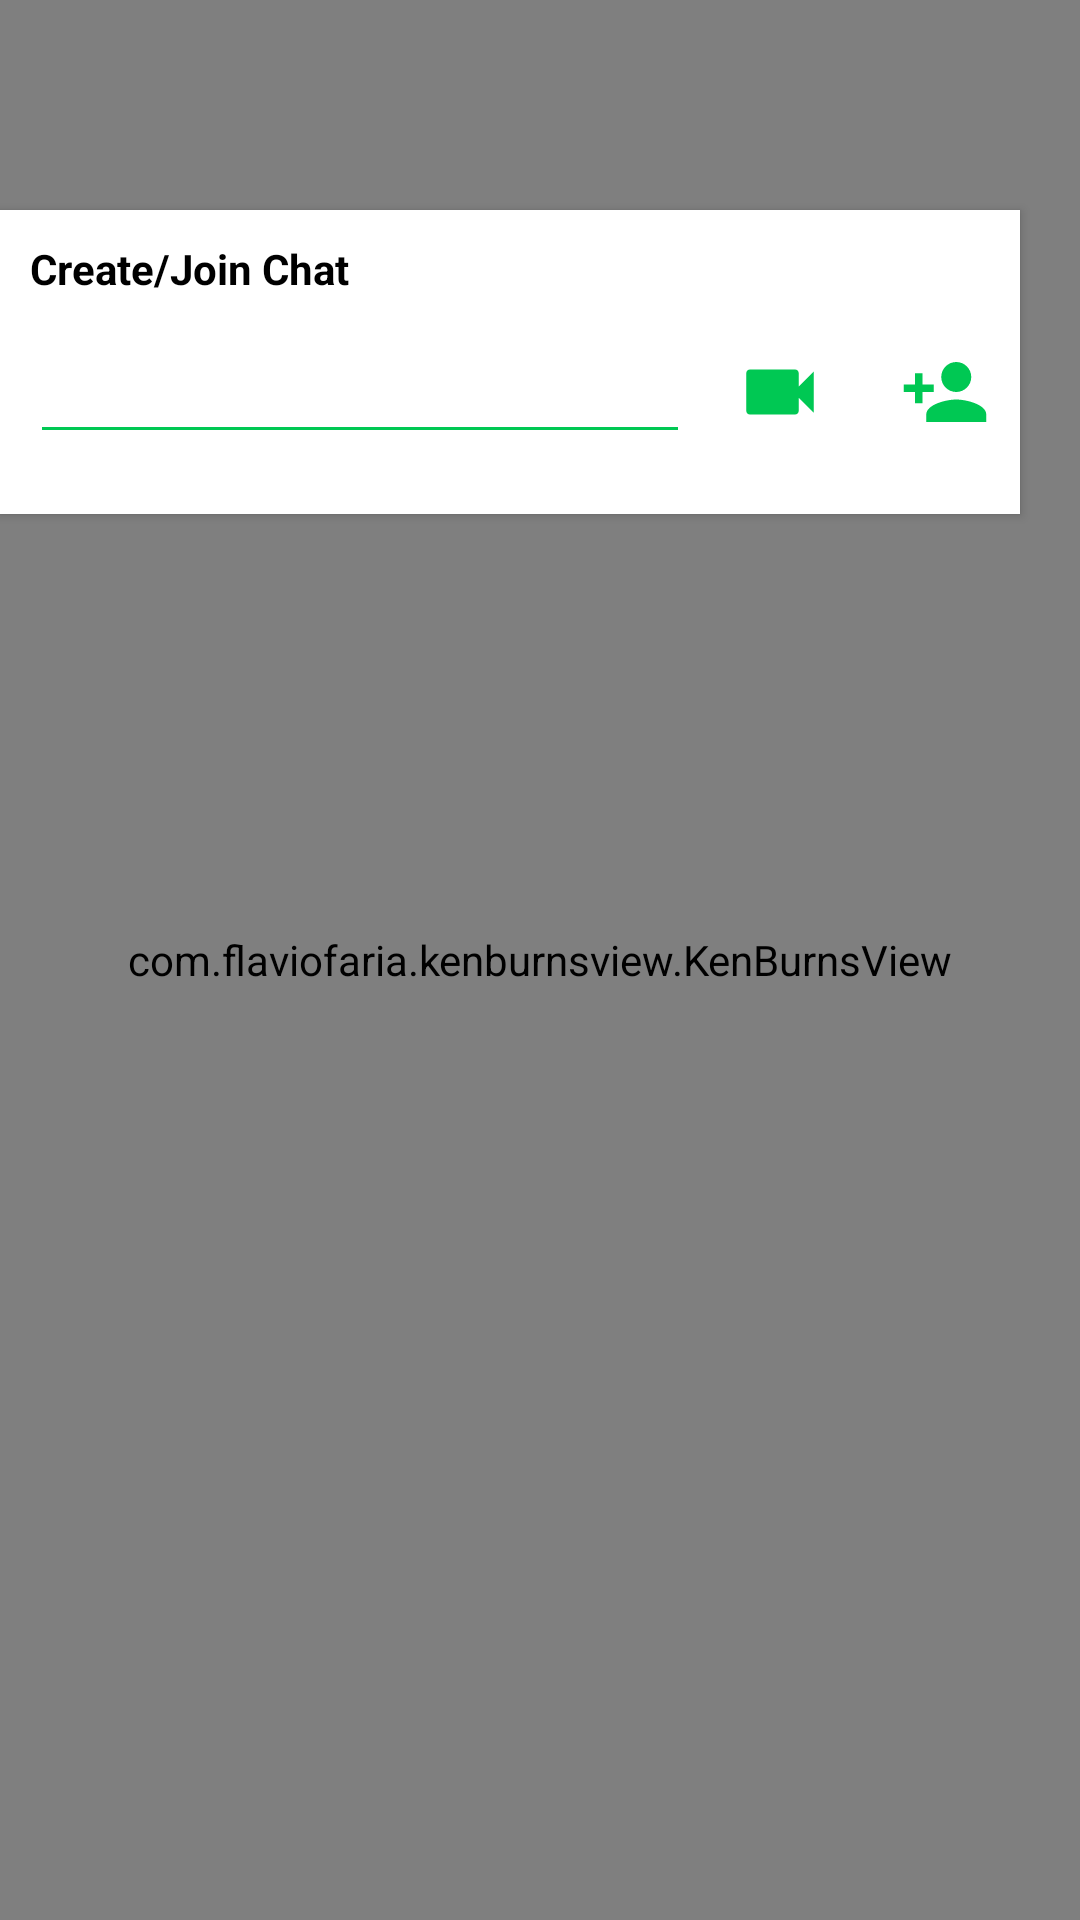

Point at icon controls on the screen. Image size 1080px x 1920px, points as point (x, y).
Connect to the room: point (780, 392)
